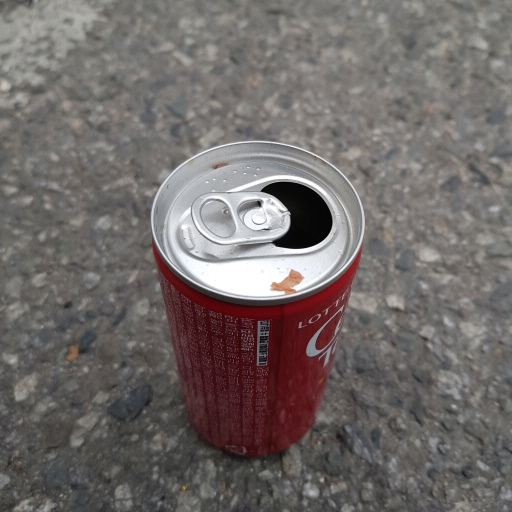Metal_0: (147, 137, 365, 460)
